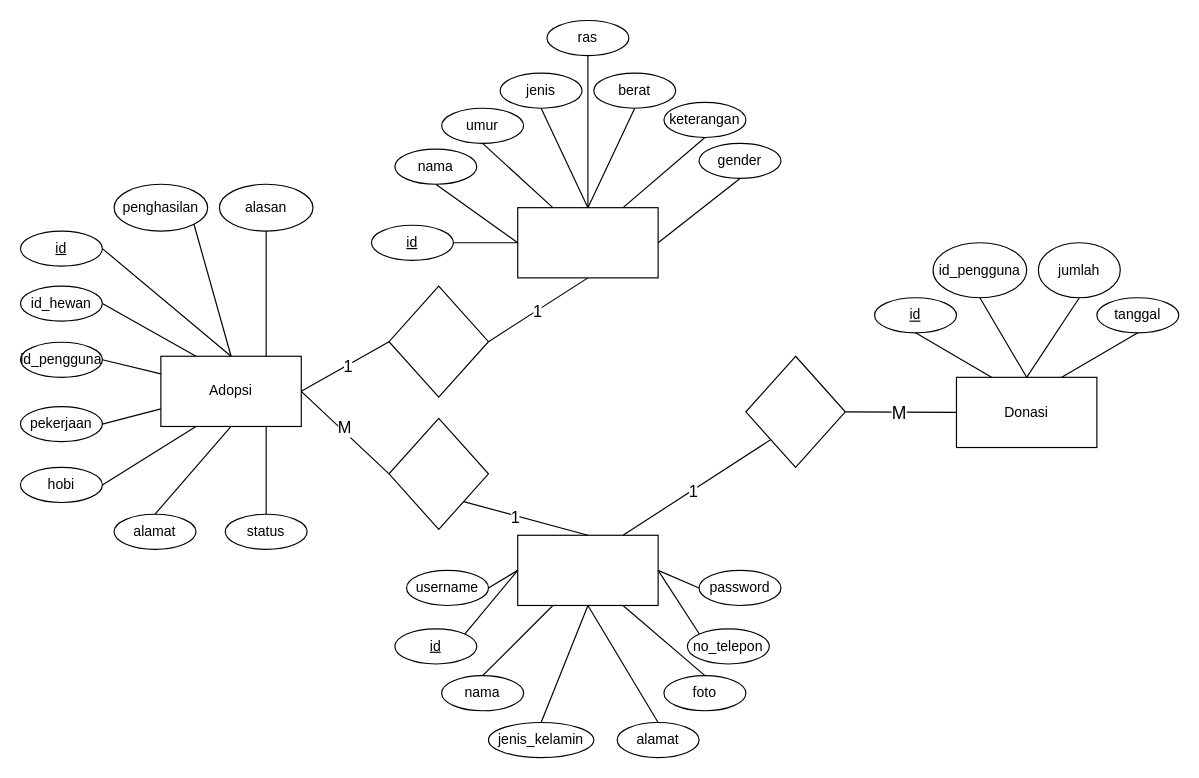
Some shapes in this 1199 by 778 pixel diagram are drawn without their labels. Each missing label, with the centre of its shape:
Hewan: the point at 587,242
melakukan: the point at 438,473
memberi: the point at 795,411
memiliki: the point at 438,341
Pengguna: the point at 587,569
